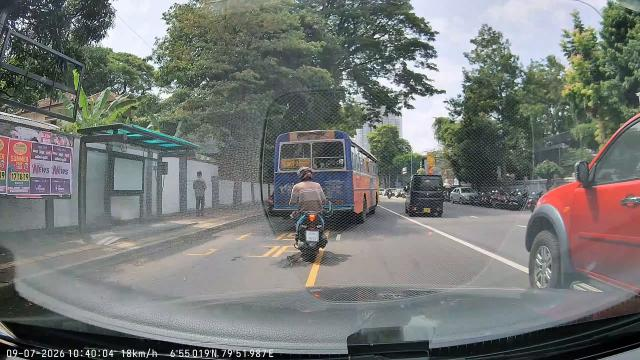number plate: (394, 164, 451, 227)
